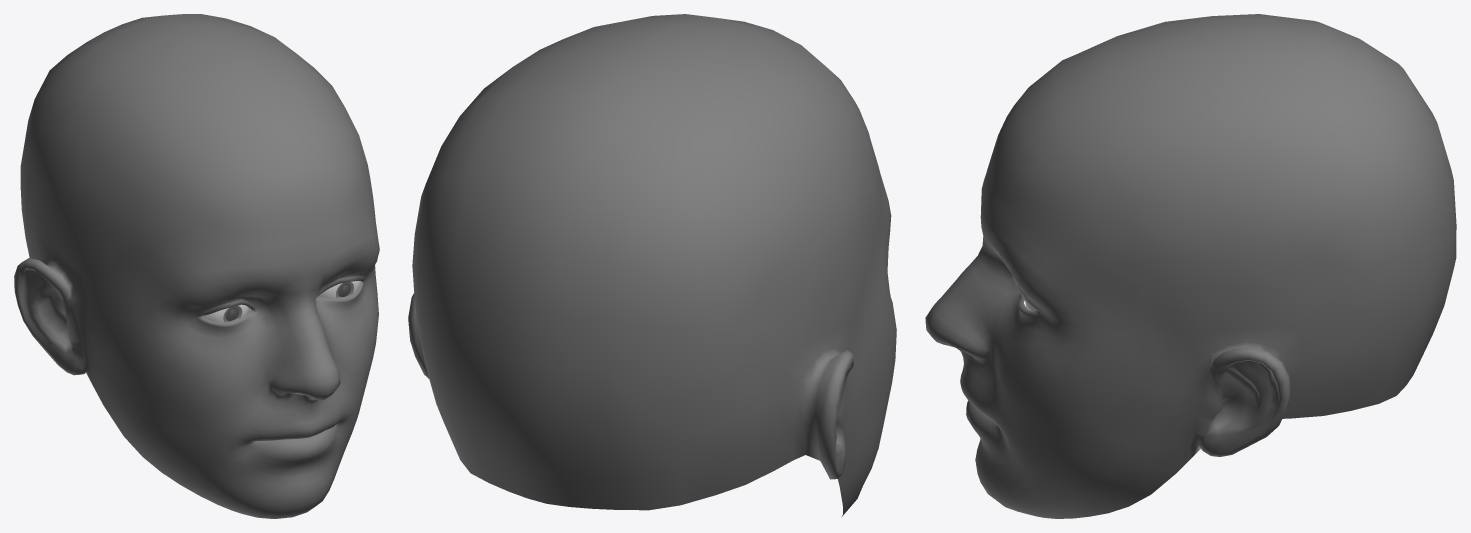
3 views of the same model, side by side, from view 1: azimuth 30°, elevation 25°; view 2: azimuth 150°, elevation 25°; view 3: azimuth 270°, elevation 25° (orthographic). The views are drawn at different scales.
Visible parts, largest first — view 1: head, eyeLeft, eyeRight; view 2: head; view 3: head.
Boxes of the visible parts, x1,y1,x2,y2 form: head: (14,14,379,518); eyeLeft: (202,304,249,322); eyeRight: (318,281,361,297); head: (408,14,896,517); head: (925,14,1456,518).
Size of the model in its own units: 1.9 by 2.31 by 2.37.
2 materials, 1 textured.
